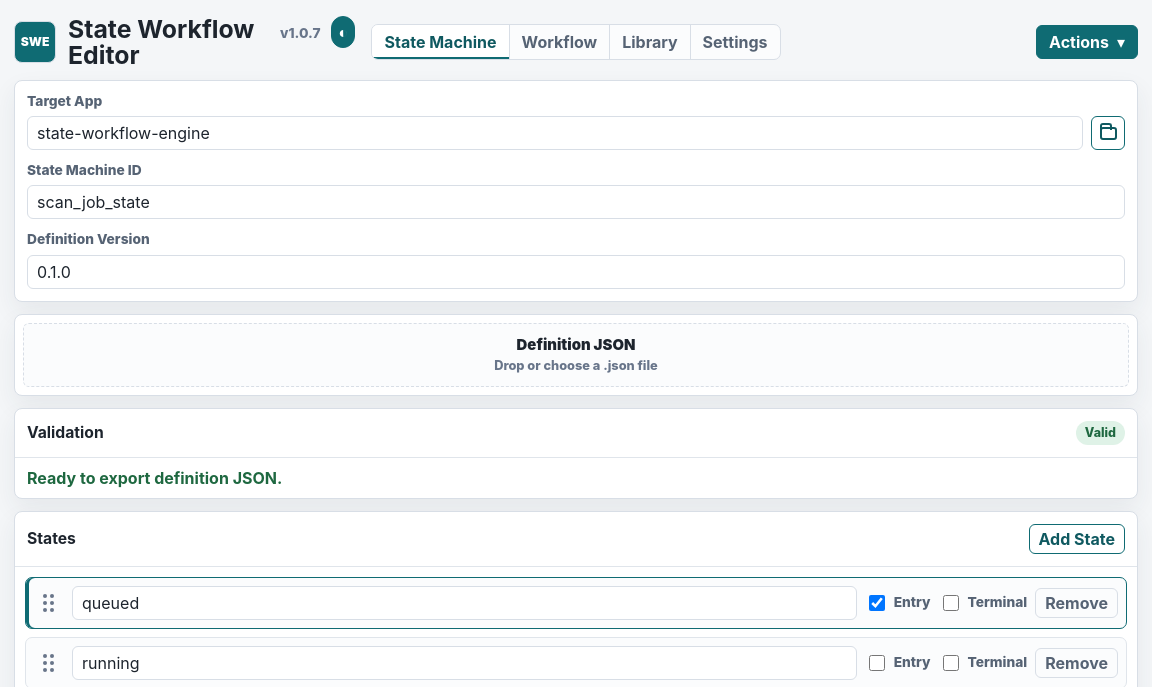
App › falls back to the selected folder name when package metadata is unavailable
The image size is (1152, 687).
What coordinates should you click on to do the following:
click the button named "Choose app folder"
I would click on:
 (1108, 133)
Its box is top-left (1091, 116), bottom-right (1125, 150).
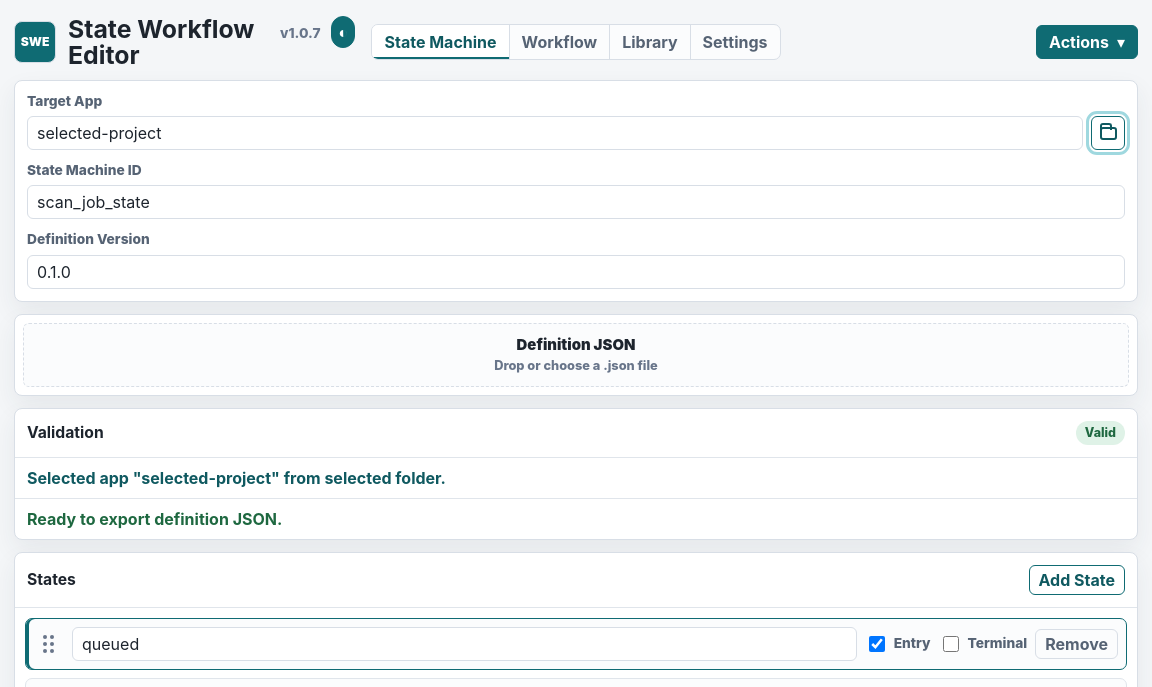
Now the field labelled "Target App" holds "selected-project", box top-left (27, 116), bottom-right (1083, 150)
Now the text "Selected app \"selected-project\" from selected folder." is shown, box top-left (15, 458), bottom-right (1137, 499)
